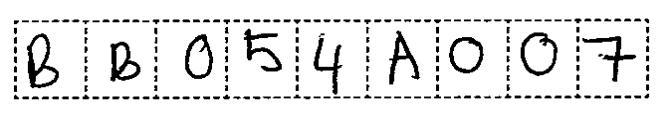0: (177, 30, 220, 86), (517, 29, 562, 79), (446, 32, 487, 78)
4: (303, 30, 351, 96)
5: (237, 25, 288, 79)
7: (582, 29, 640, 85)
A: (381, 27, 426, 90)
B: (22, 30, 66, 90), (102, 36, 145, 86)
